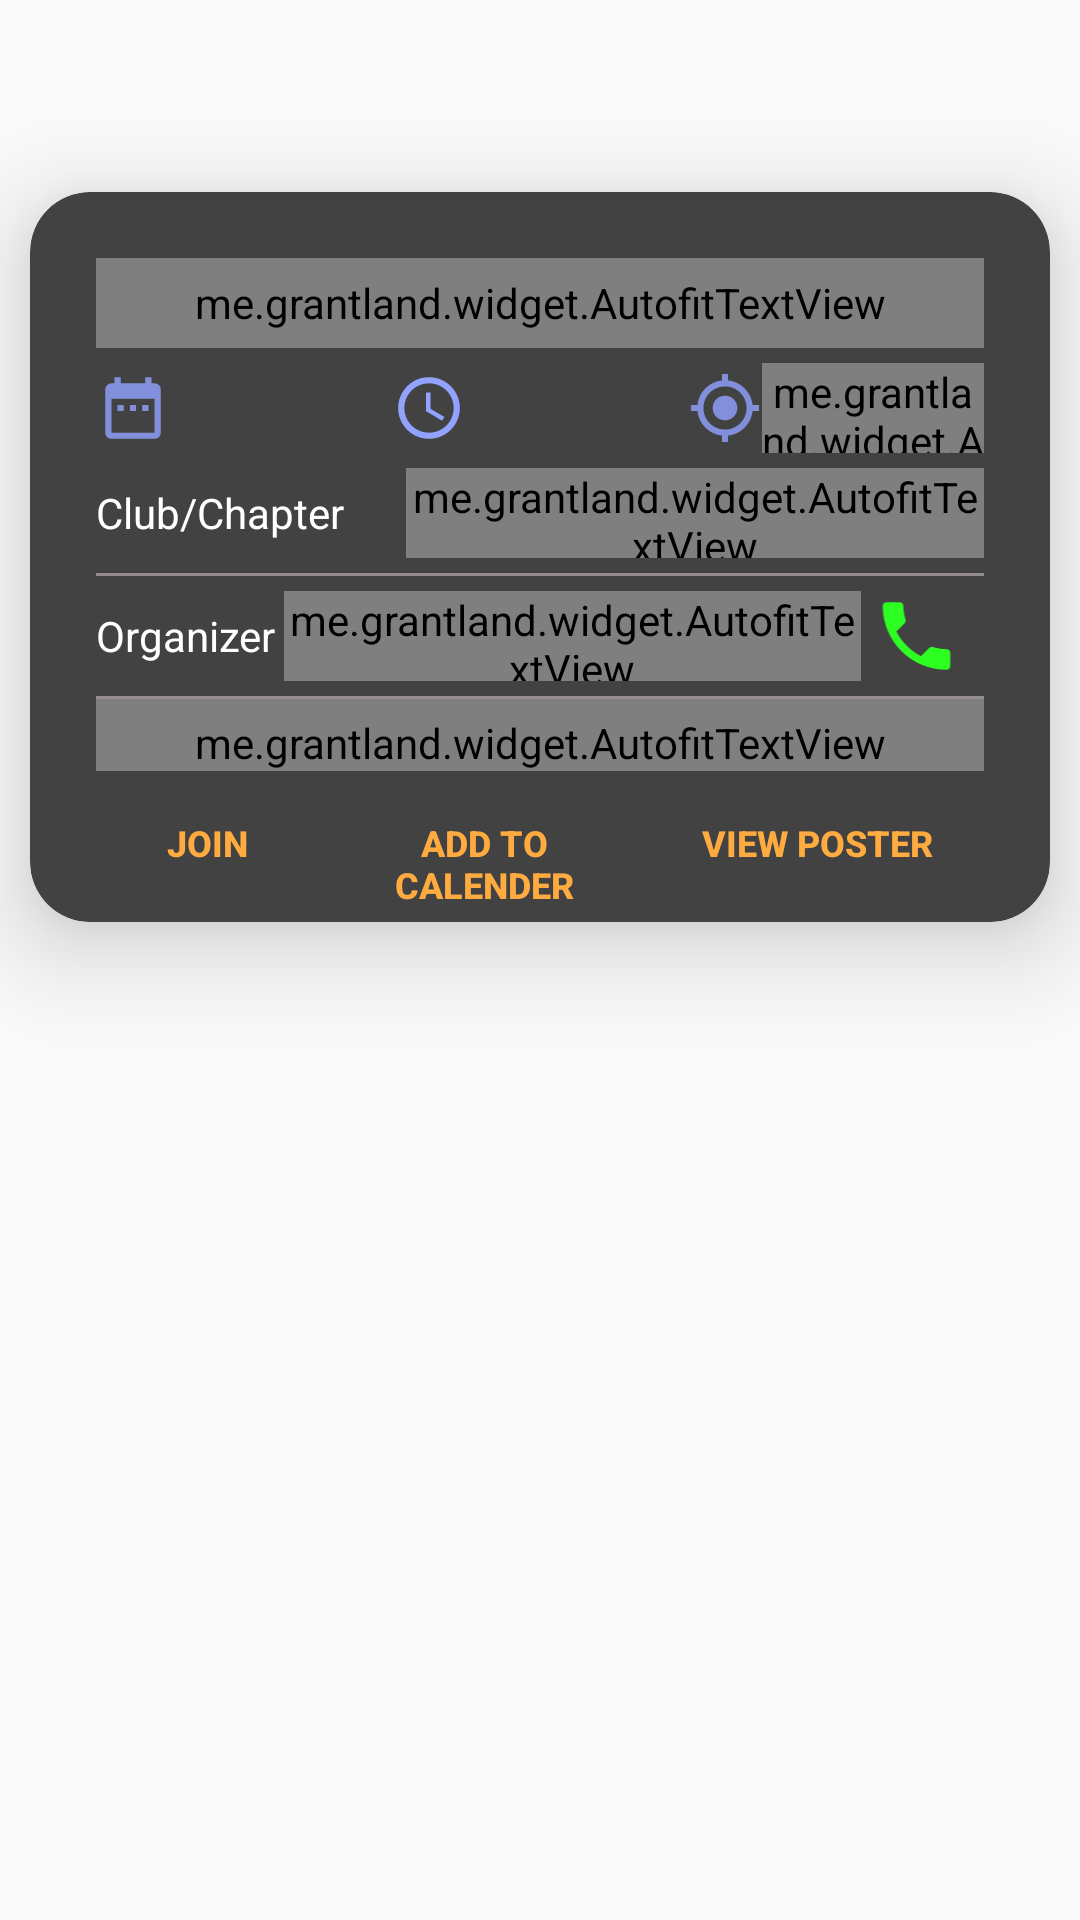

Where icons sit on this 1080px x 1920px app screen, as BBox(x1, y1, x2, y2):
Call: BBox(882, 602, 951, 670)
Date: BBox(105, 377, 161, 439)
Time: BBox(398, 377, 460, 439)
Venue: BBox(691, 374, 759, 442)
